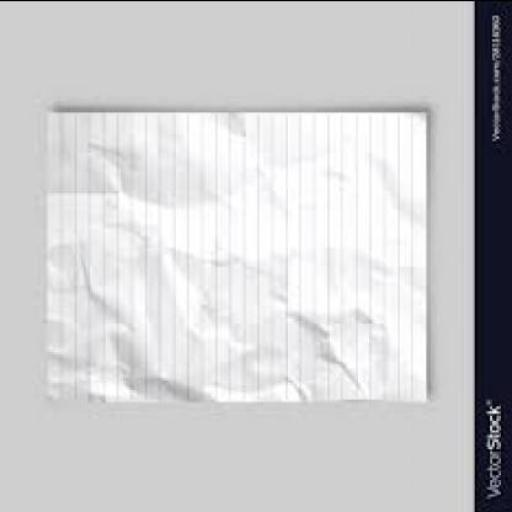paper: (42, 107, 424, 405)
